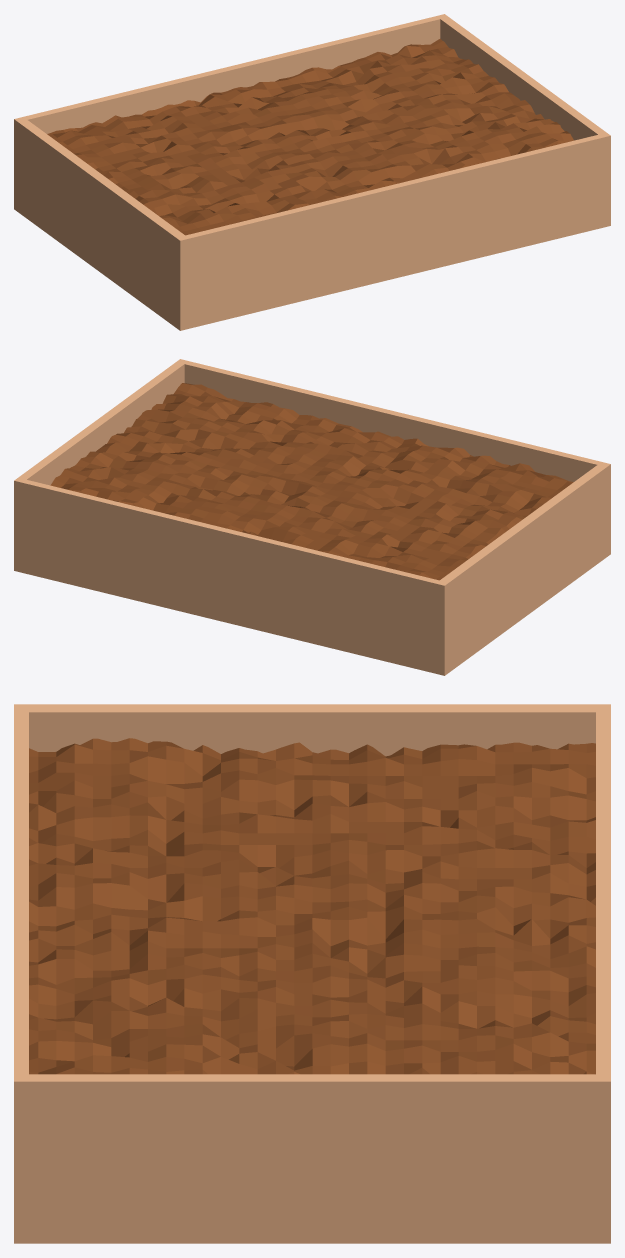
File: mod_bg_bacdeplantation.fbx
3 renders of one model, top to bottom at view 1: azimuth 30°, elevation 25°; view 2: azimuth 150°, elevation 25°; view 3: azimuth 270°, elevation 25°, orthographic. The views are drawn at different scales.
Parts seen in each view (by area): view 1: Bac de plantation 1, Bac de plantation 1.001; view 2: Bac de plantation 1, Bac de plantation 1.001; view 3: Bac de plantation 1.001, Bac de plantation 1.
Boxes of the visible parts, x1=… form: Bac de plantation 1: x1=14, y1=14, x2=610, y2=330; Bac de plantation 1.001: x1=47, y1=38, x2=575, y2=235; Bac de plantation 1: x1=14, y1=359, x2=610, y2=675; Bac de plantation 1.001: x1=50, y1=383, x2=573, y2=580; Bac de plantation 1.001: x1=29, y1=738, x2=595, y2=1074; Bac de plantation 1: x1=14, y1=704, x2=610, y2=1243.
Size of the model in its own units: 175 by 35.03 by 117.
